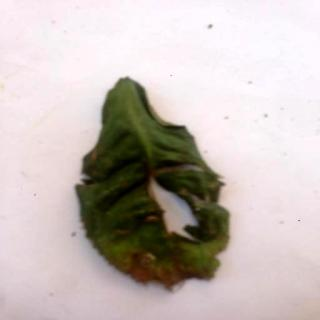Brown Blight: (78, 78, 232, 288)
